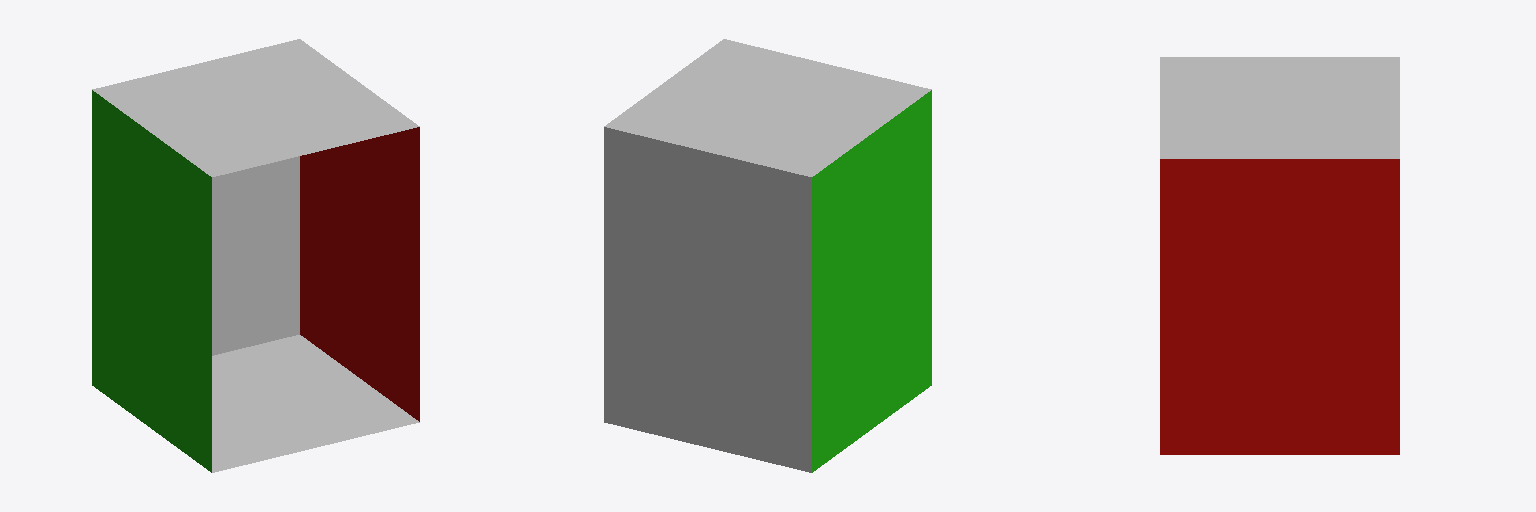
Rendered from cornell_box_empty.obj.
3 renders of one model, left to right at view 1: azimuth 30°, elevation 25°; view 2: azimuth 150°, elevation 25°; view 3: azimuth 270°, elevation 25°, orthographic.
Visible parts, largest first — view 1: Cube; view 2: Cube; view 3: Cube.
Boxes of the visible parts, x1,y1,x2,y2 form: Cube: [92, 39, 419, 472]; Cube: [604, 39, 931, 472]; Cube: [1160, 57, 1399, 454].
Size of the model in its own units: 1.47 by 2 by 1.47.